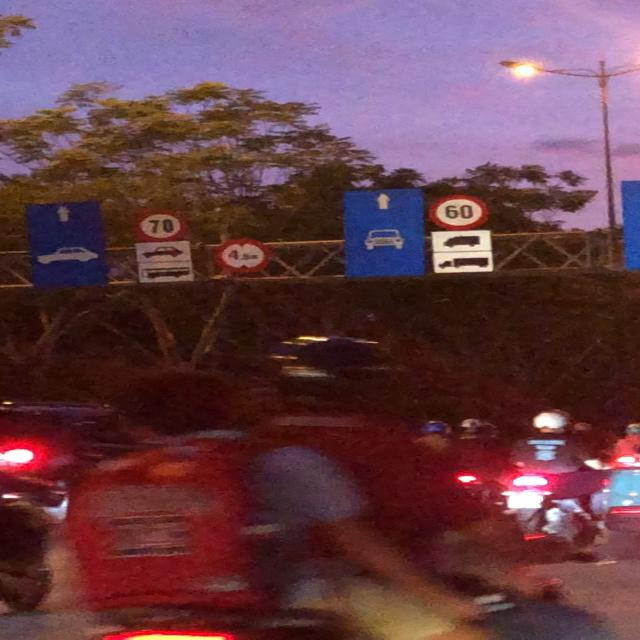Bien bao han che chieu cao: (212, 237, 279, 275)
Bien bao toc do toi da cho phep: (422, 192, 494, 233), (128, 210, 196, 247)
